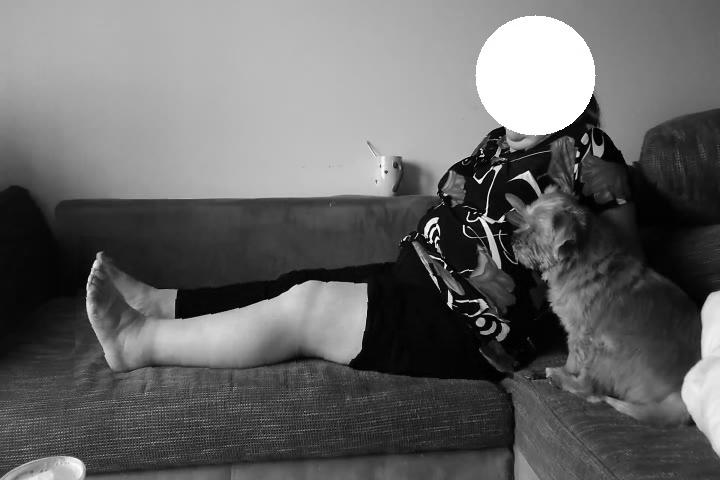lowerbody: (76, 241, 518, 391)
